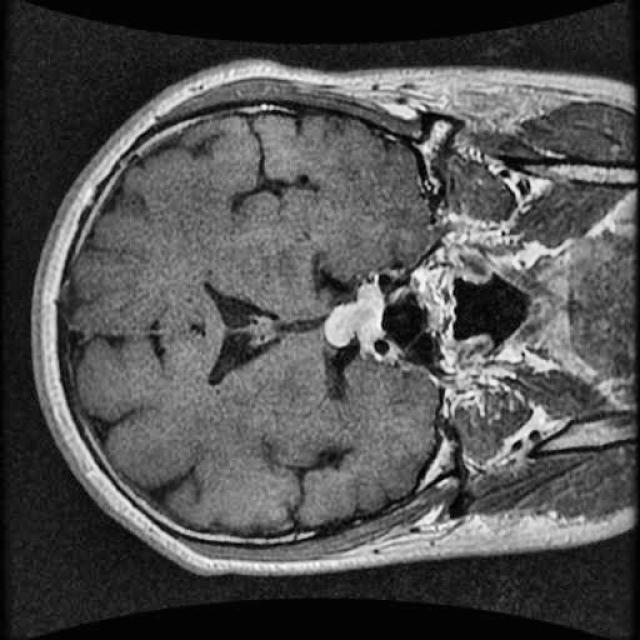Tumor: (318, 260, 416, 381)
